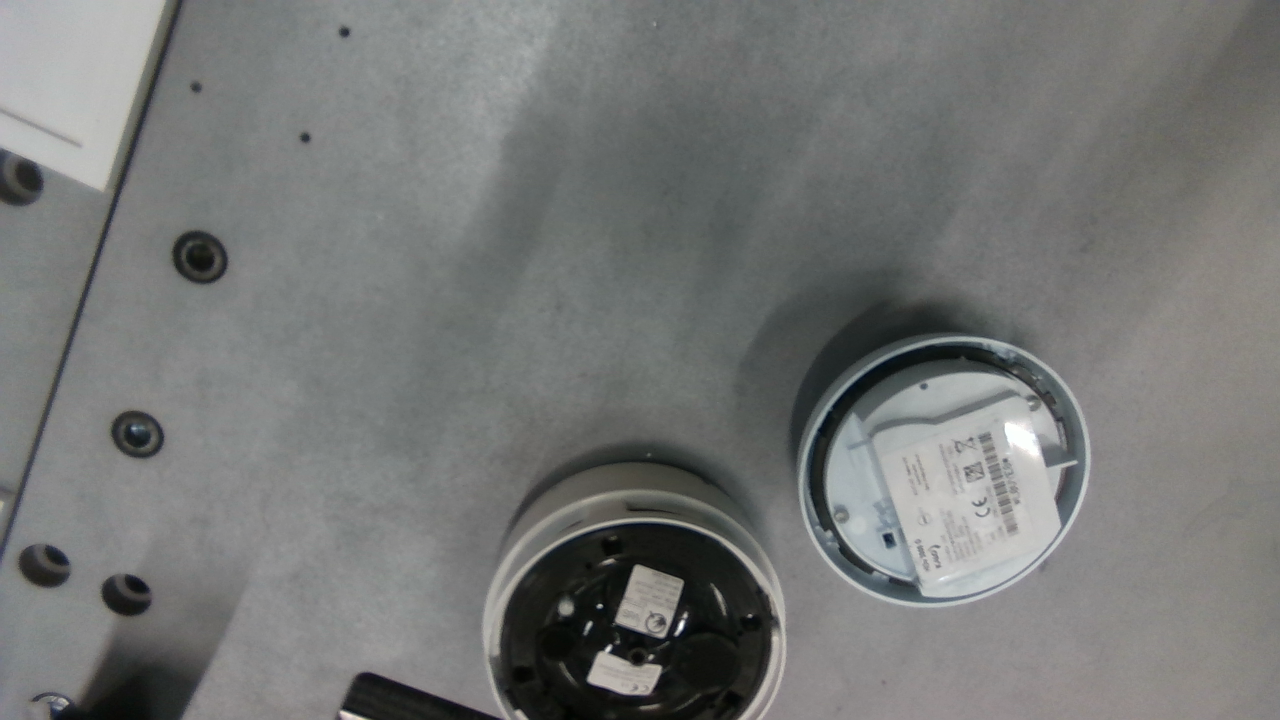HexScrew: (740, 605, 766, 633), (1024, 395, 1042, 415), (600, 536, 621, 551), (831, 508, 847, 523)
